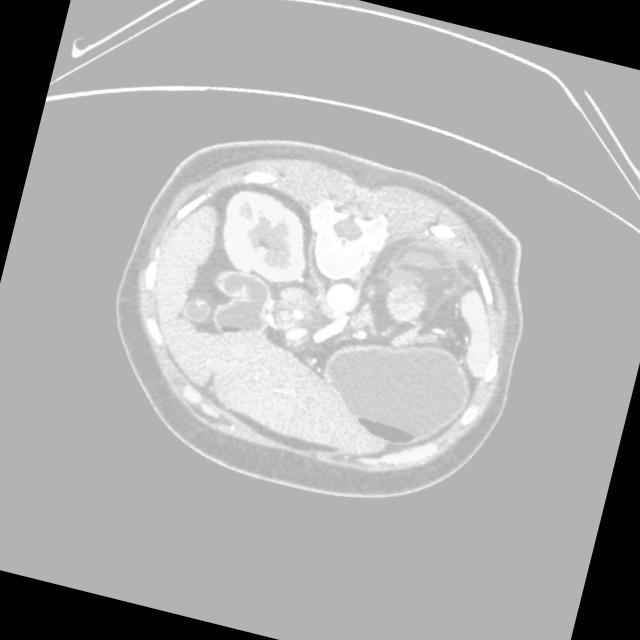TUMOR: (104, 222, 521, 480)
